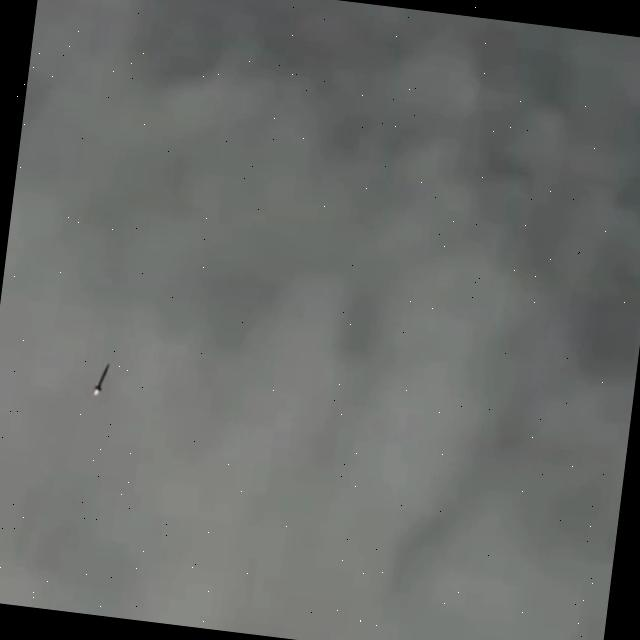rocket: (91, 362, 109, 395)
